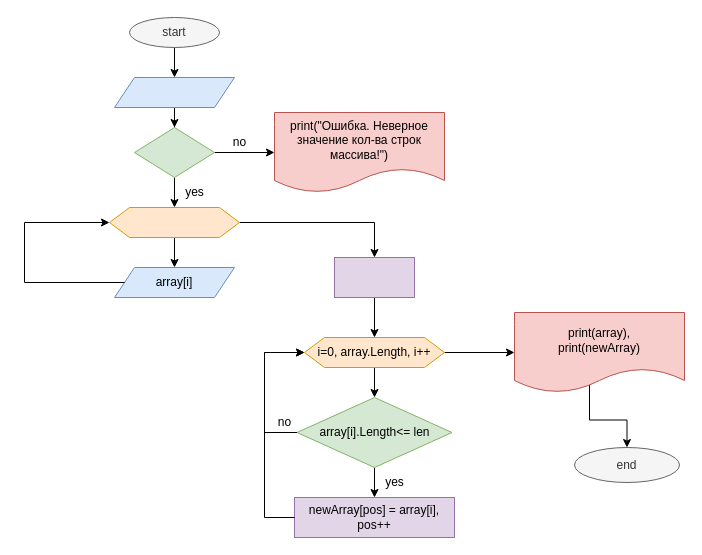
Image size: 702x555. Some labels were removed from this diagram. The shapes that lost their labels are listed below. From the top down, each one's centre as x and y in pixels, then its label:
[174,92]: size
[174,152]: size>0
[174,222]: i=0, size-1, i++
[374,277]: pos=0, len=3
